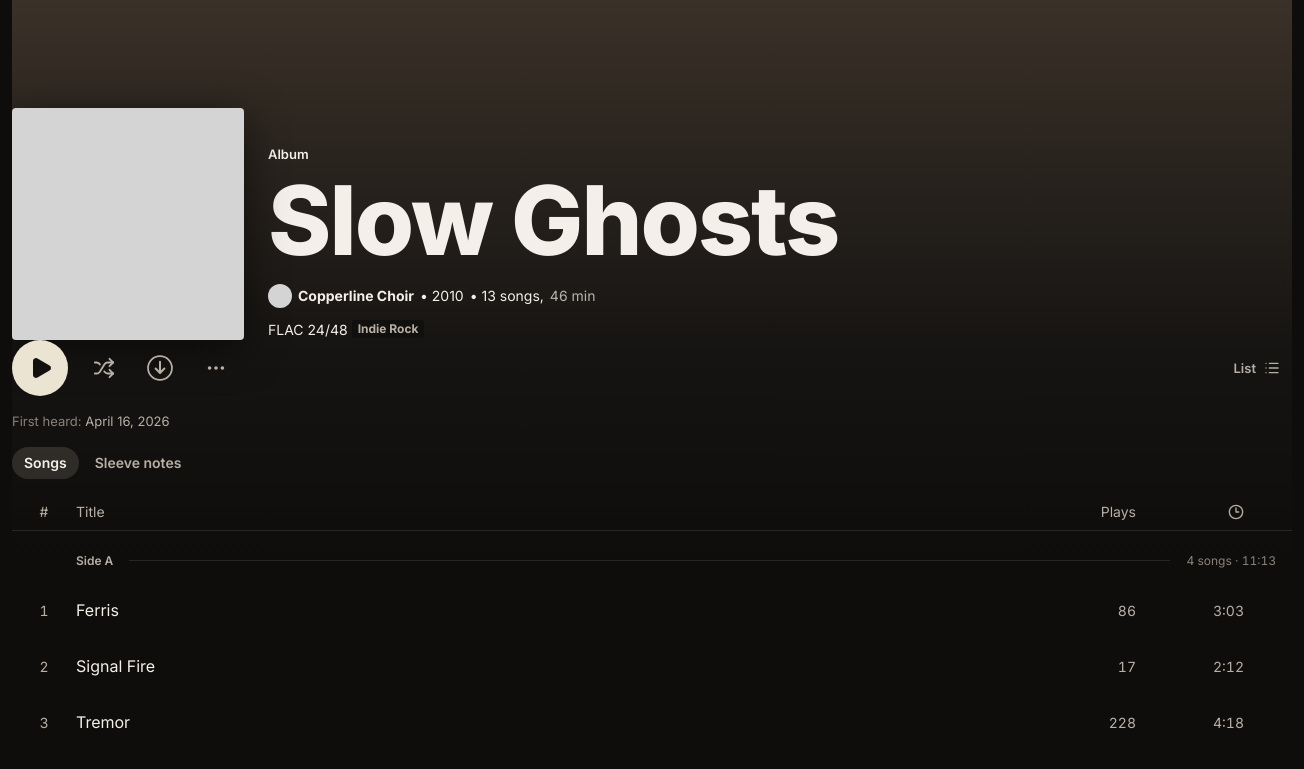
the Sleeve notes tab › nothing known shows an empty state with how to get more
Expected: the heading "Slow Ghosts" is shown, [268,162,838,278]
Click the tab "Sleeve notes". click: (138, 463)
box: [83,447,193,479]
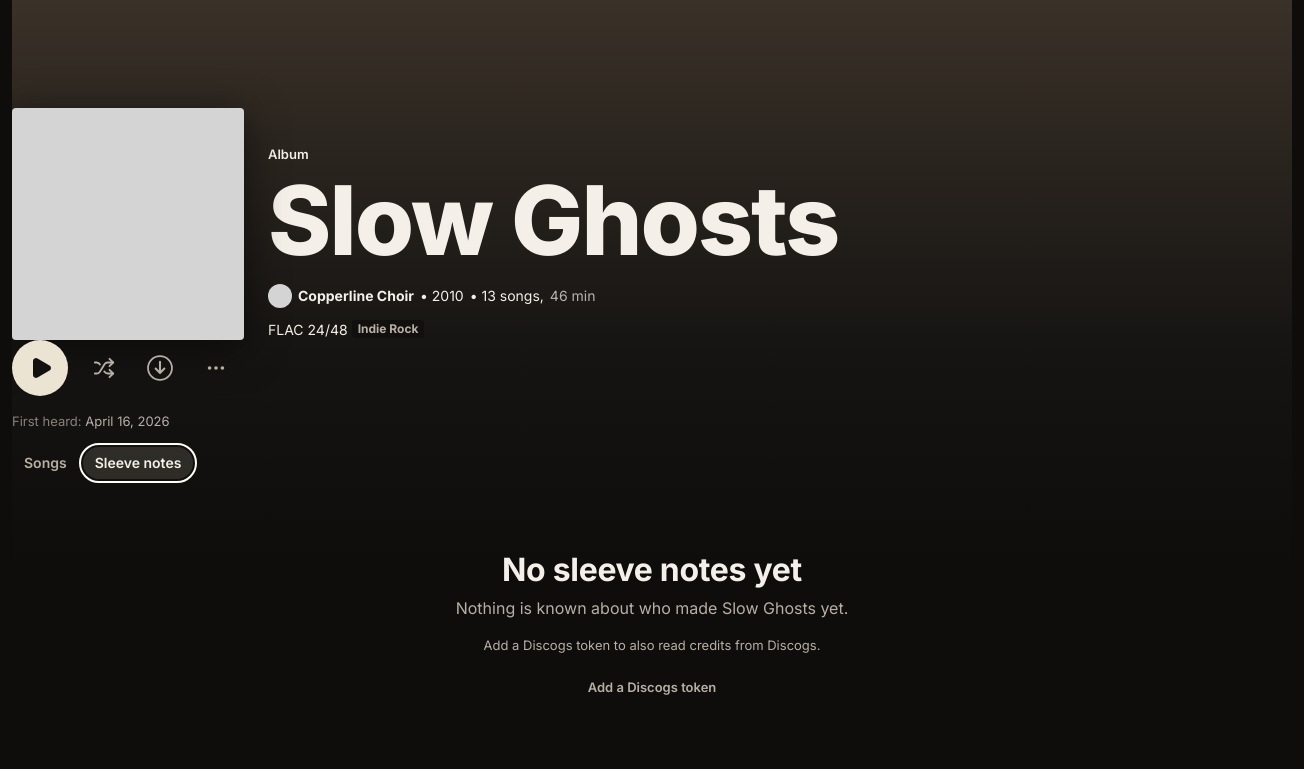
Result: the heading "No sleeve notes yet" is shown at [502,551,802,589]
Result: the button "Add a Discogs token" is shown at [572,671,732,703]
